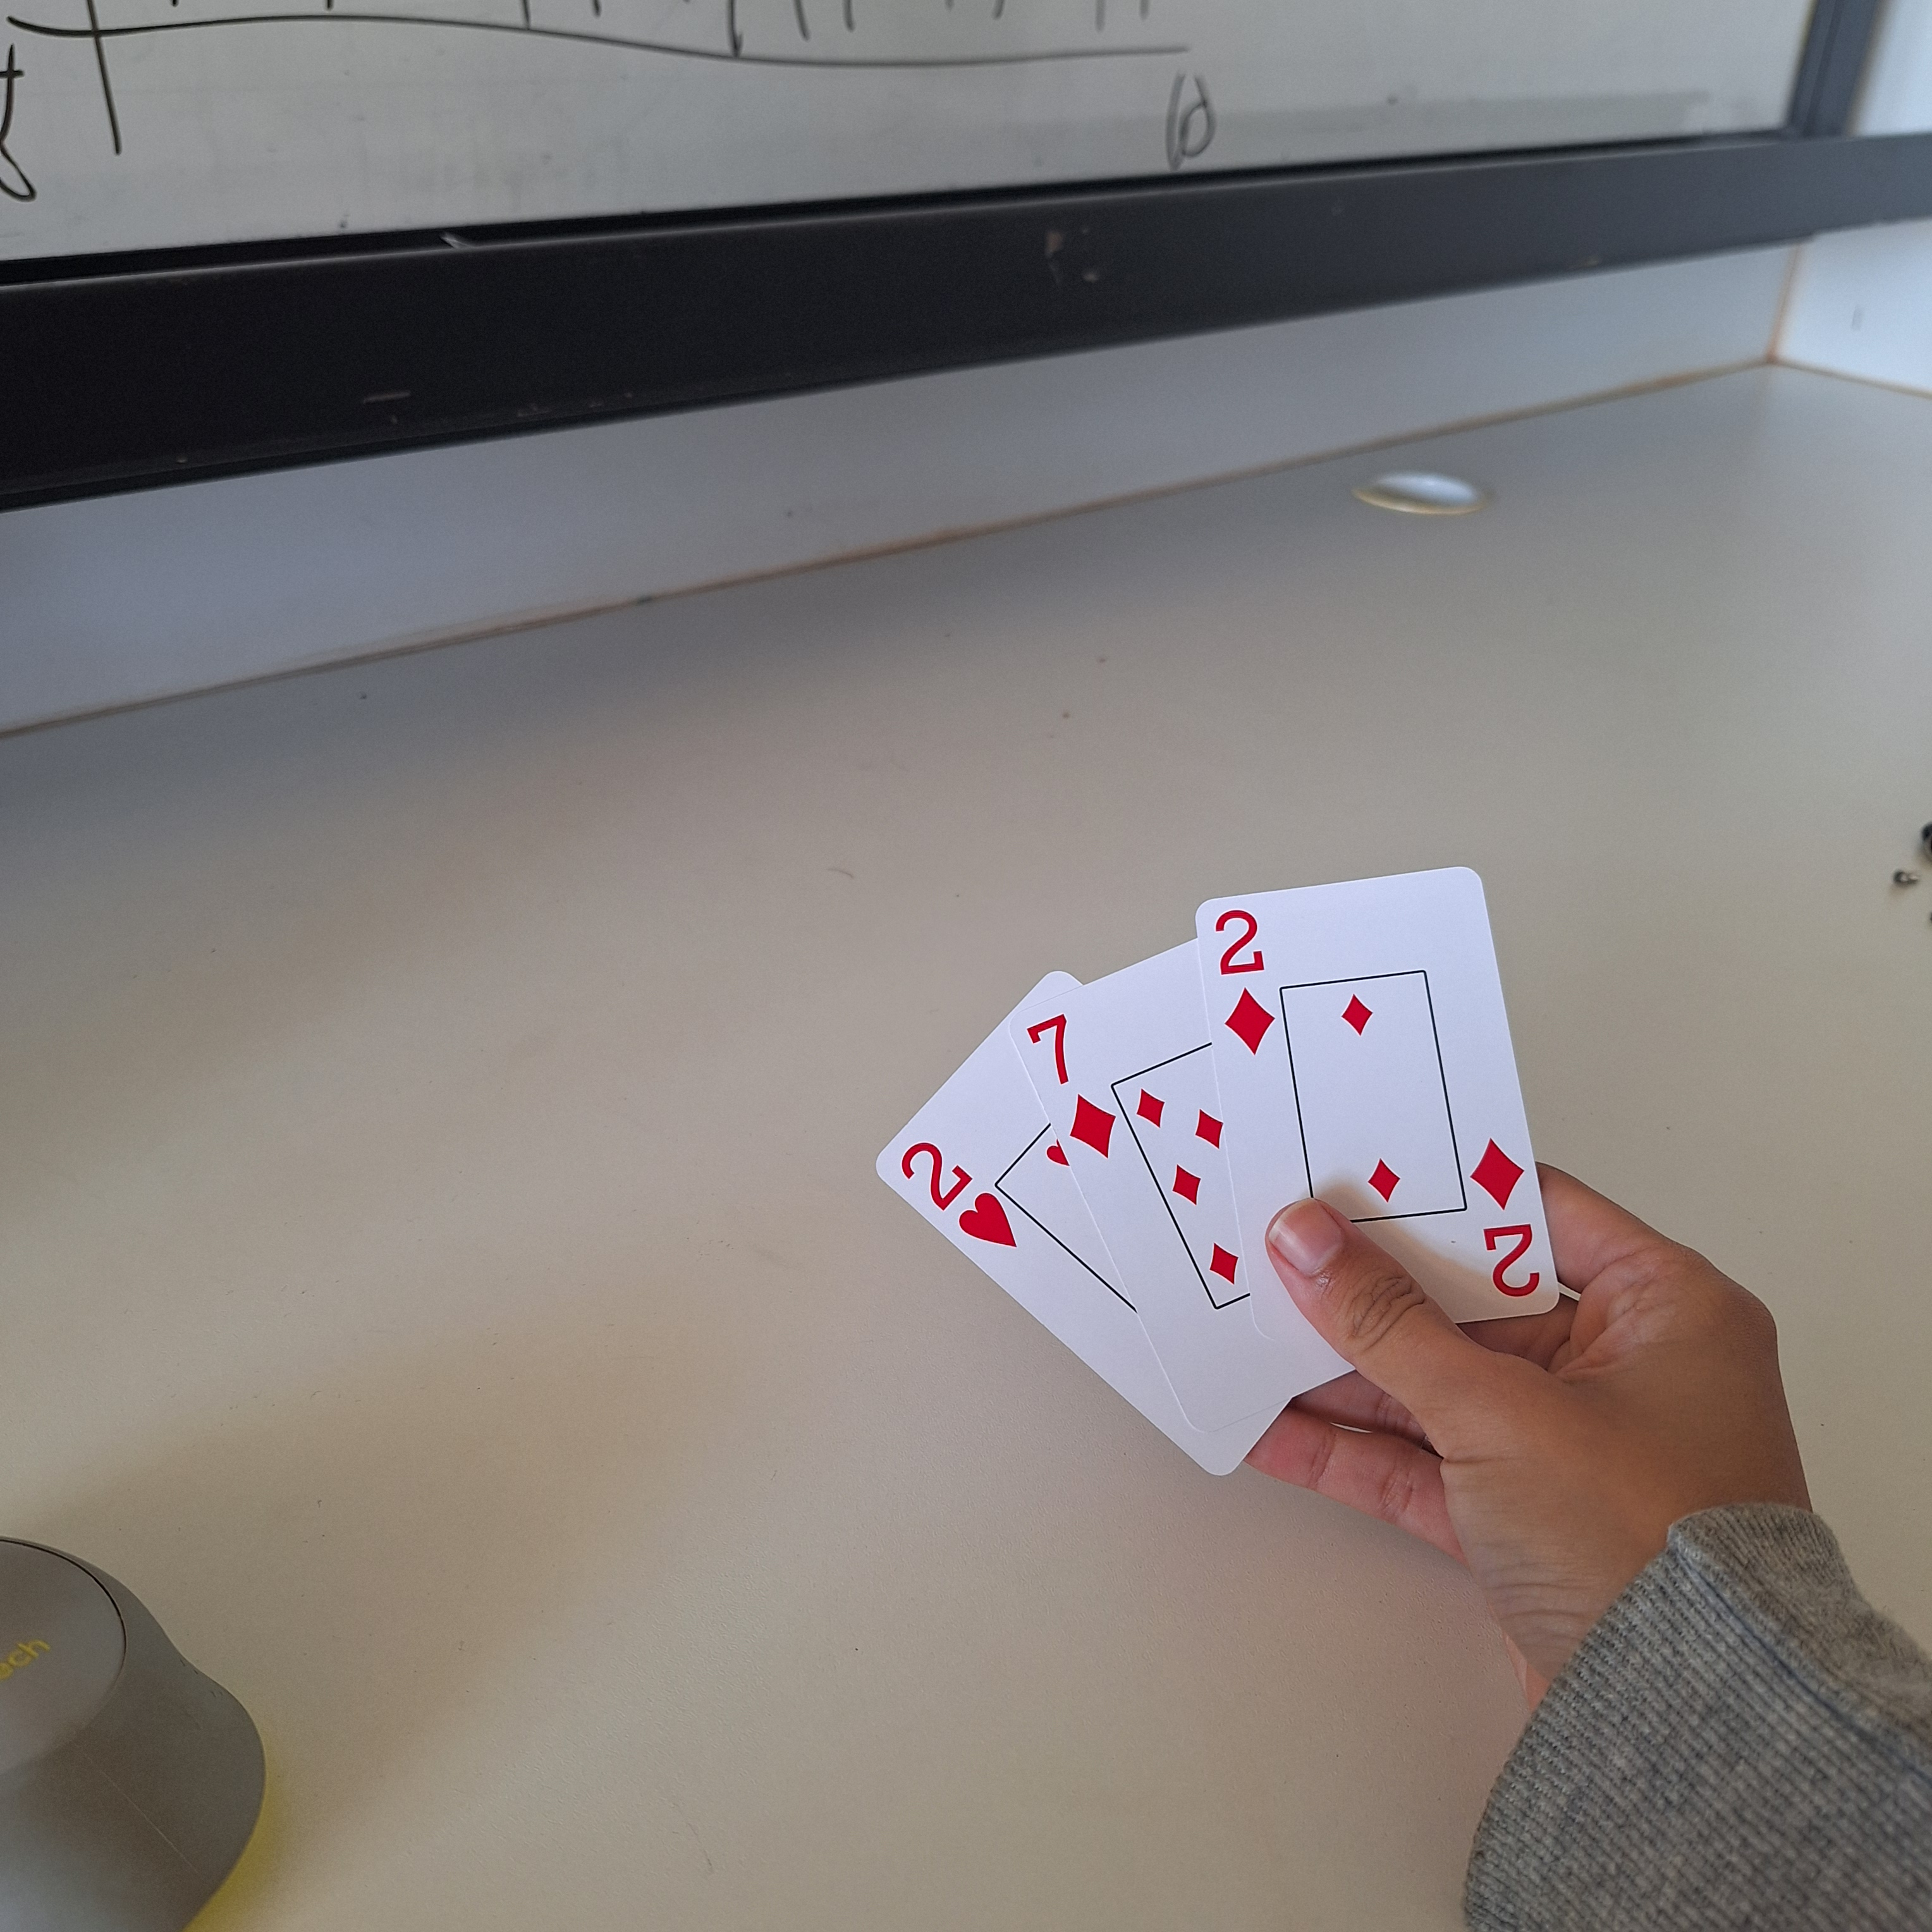2C: (890, 1127, 1031, 1258)
2O: (1207, 901, 1288, 1058)
7O: (1019, 1008, 1123, 1164)
